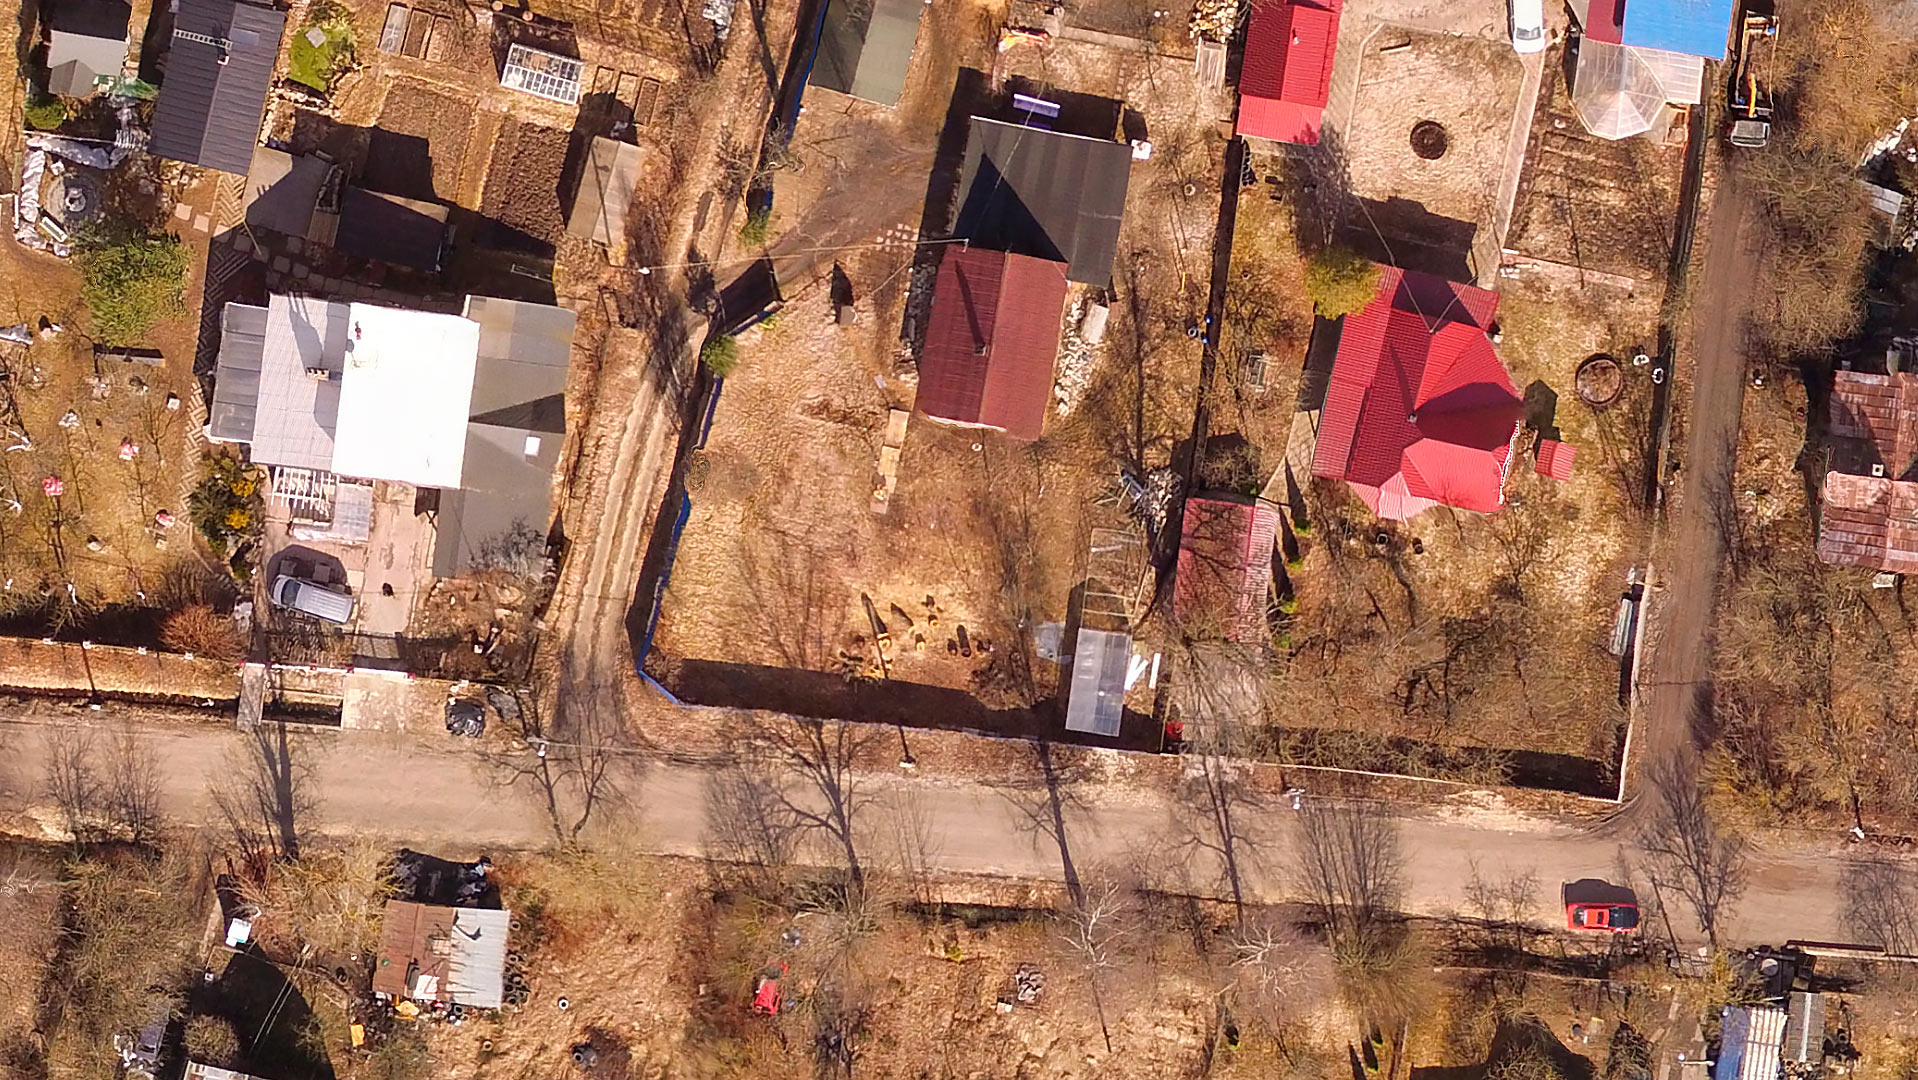build: (187, 271, 589, 585), (905, 108, 1147, 439), (1311, 246, 1532, 514), (1809, 338, 1918, 597), (148, 4, 288, 179), (1572, 1, 1740, 142), (362, 885, 515, 1014), (1168, 489, 1280, 641), (1238, 4, 1350, 150), (805, 4, 938, 105), (1715, 971, 1822, 1080), (559, 132, 652, 253), (1054, 620, 1138, 738), (38, 8, 130, 97)
